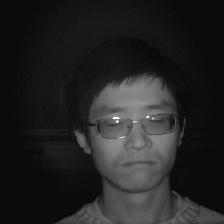sad: (73, 60, 182, 197)
